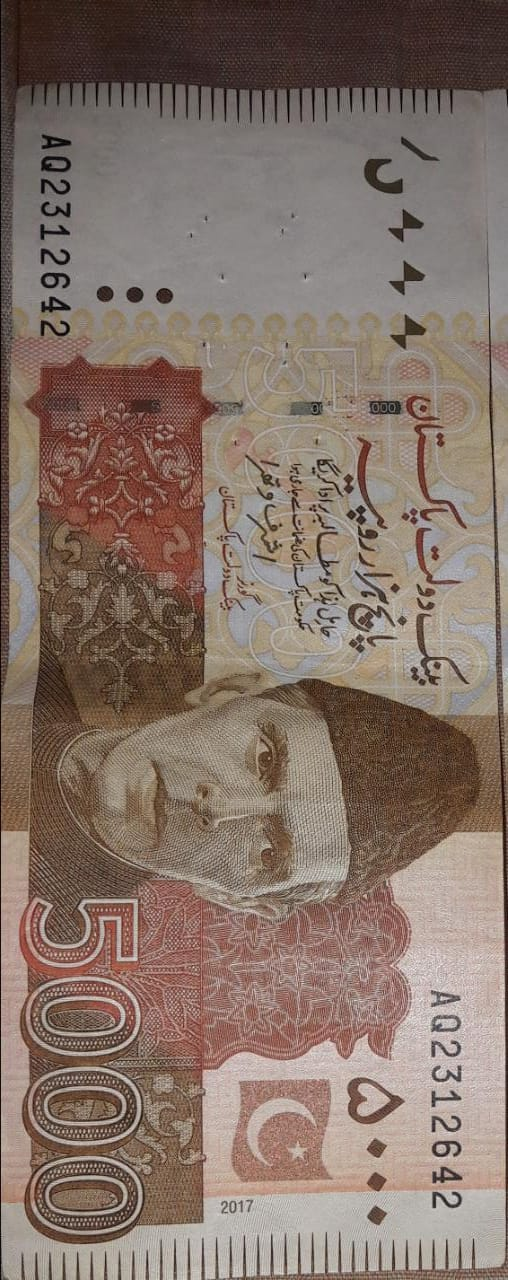5000 rupee: (20, 71, 505, 1280)
